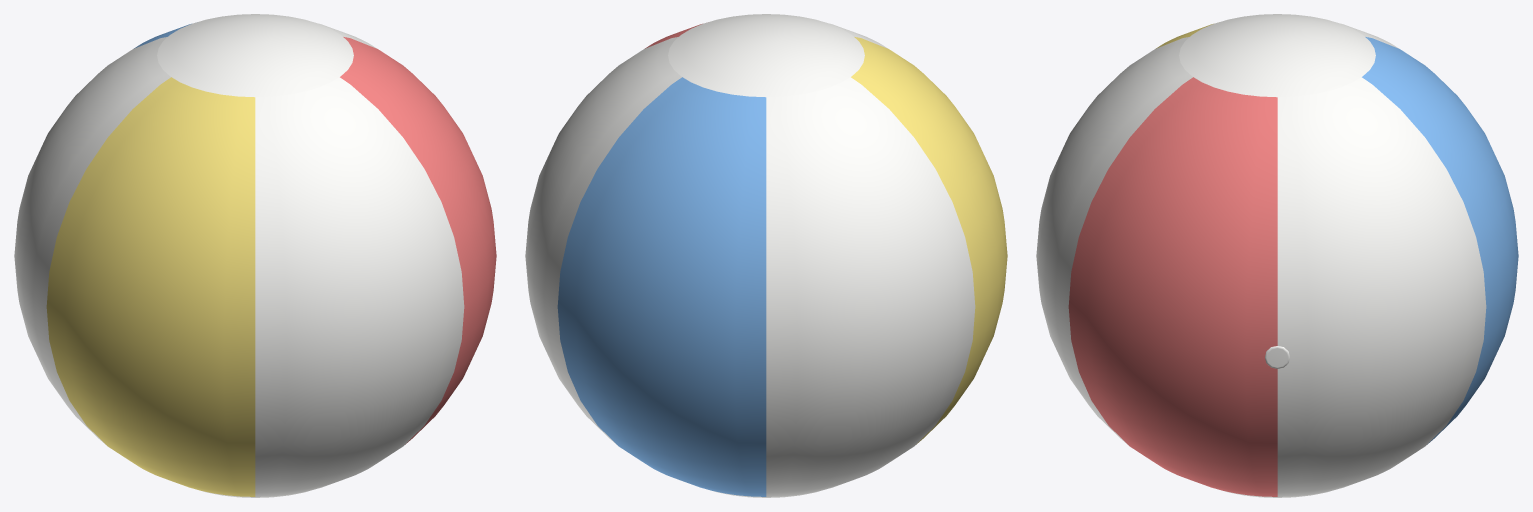
File: TanksBall.glb
3 views of the same model, side by side, from view 1: azimuth 30°, elevation 25°; view 2: azimuth 150°, elevation 25°; view 3: azimuth 270°, elevation 25° (orthographic).
Parts seen in each view (by area): view 1: White, Yellow, Red; view 2: White, Blue, Yellow; view 3: White, Red, Blue.
Boxes of the visible parts, left/top/right/bottom form: White: left=14, top=14, right=464, bottom=497; Yellow: left=46, top=77, right=255, bottom=496; Red: left=340, top=37, right=496, bottom=444; White: left=525, top=14, right=975, bottom=497; Blue: left=557, top=77, right=766, bottom=496; Yellow: left=851, top=37, right=1007, bottom=444; White: left=1036, top=14, right=1486, bottom=497; Red: left=1068, top=77, right=1277, bottom=496; Blue: left=1362, top=37, right=1518, bottom=444.
Bounding box in the file's own units: 16 × 16.06 × 16.
